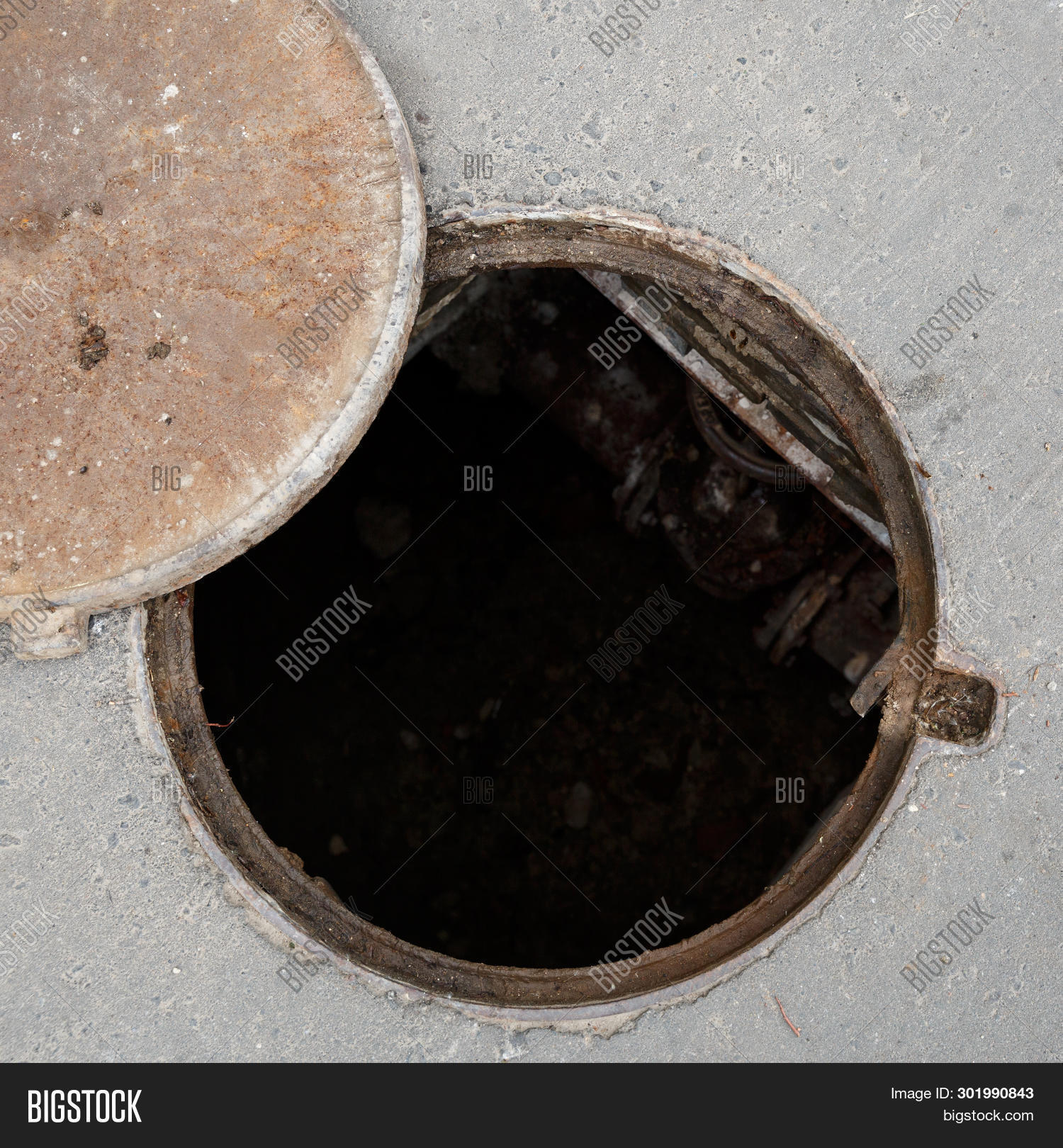Open_manhole: (16, 23, 1016, 1007)
